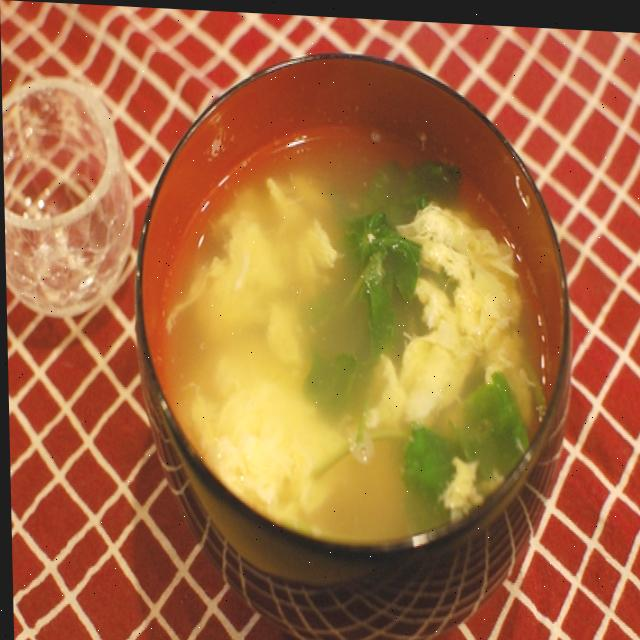汤锅炖物: (124, 54, 567, 614)
